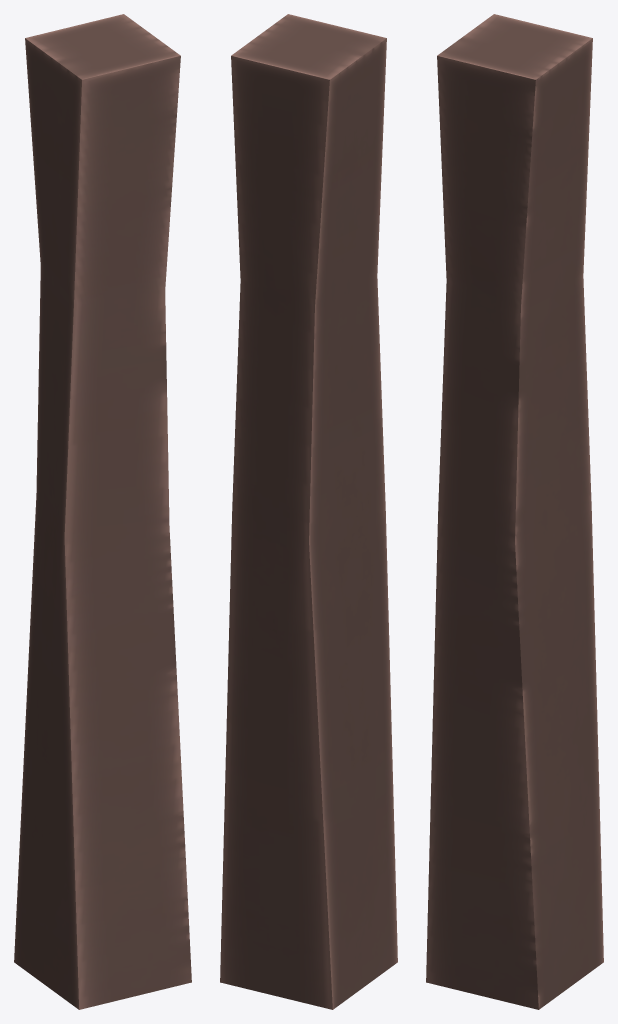
The model's file is Fence_1.fbx.
3 renders of one model, left to right at view 1: azimuth 30°, elevation 25°; view 2: azimuth 150°, elevation 25°; view 3: azimuth 330°, elevation 25°, orthographic.
Visible parts, largest first — view 1: Fence_1; view 2: Fence_1; view 3: Fence_1.
Boxes of the visible parts, left/top/right/bottom form: Fence_1: left=14, top=14, right=191, bottom=1009; Fence_1: left=220, top=14, right=397, bottom=1009; Fence_1: left=426, top=14, right=603, bottom=1009.
Size of the model in its own units: 5.17 by 39.69 by 5.17.
